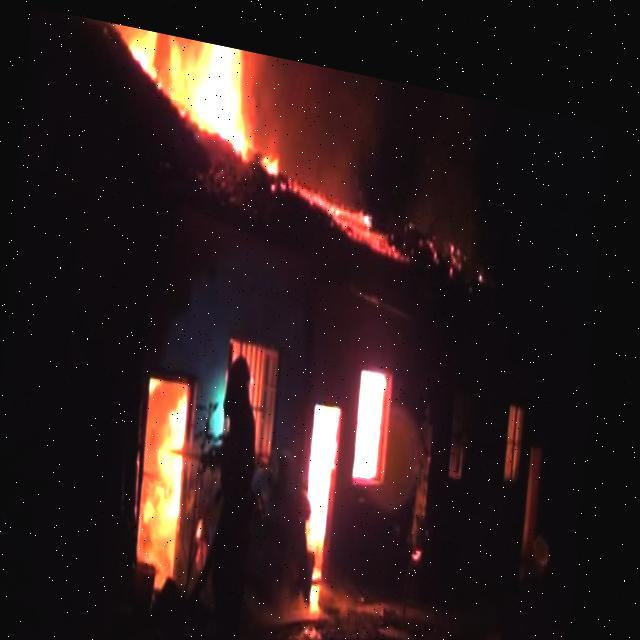Fire: (122, 23, 254, 150), (140, 361, 196, 577), (309, 389, 343, 552), (358, 344, 392, 460)
